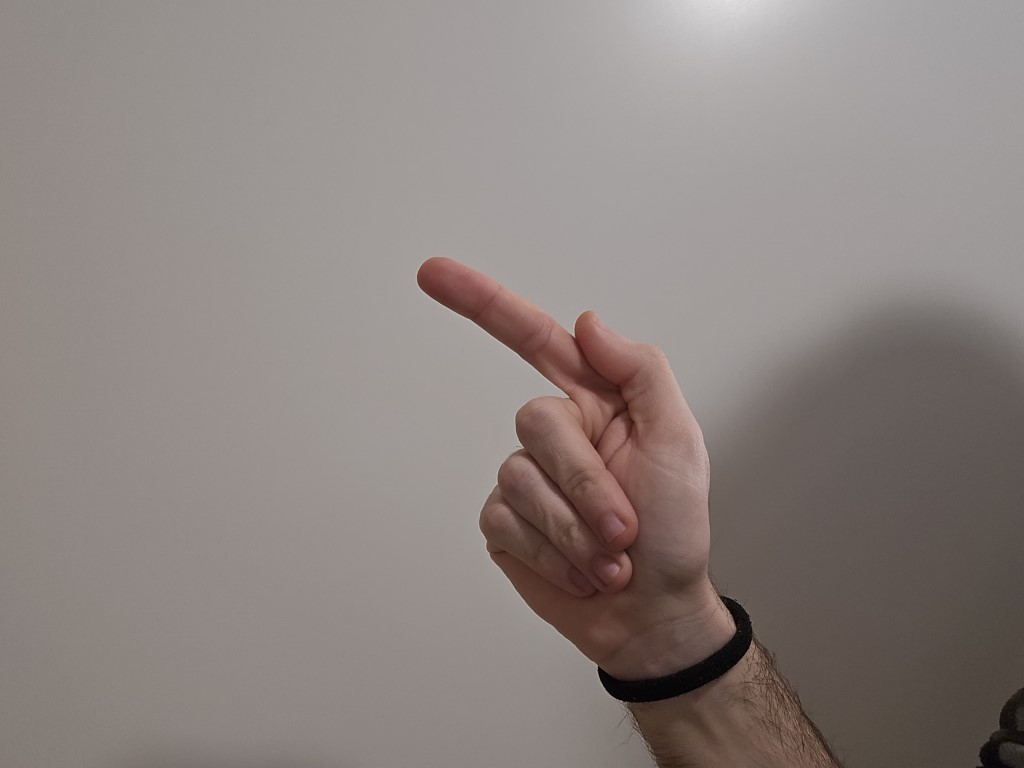g: (374, 219, 718, 655)
